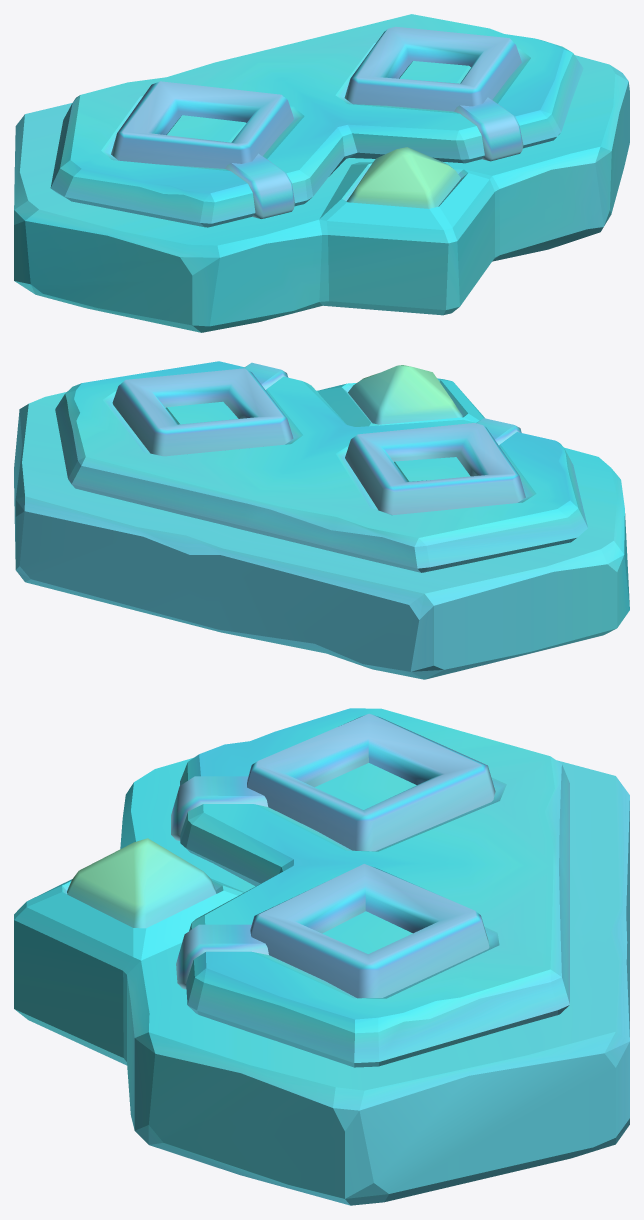
File: CharSkyKid_Prop_HandheldController.glb
3 renders of one model, top to bottom at view 1: azimuth 30°, elevation 25°; view 2: azimuth 150°, elevation 25°; view 3: azimuth 270°, elevation 25°, orthographic. The views are drawn at different scales.
Parts seen in each view (by area): view 1: CharSkyKid_Prop_HandheldController; view 2: CharSkyKid_Prop_HandheldController; view 3: CharSkyKid_Prop_HandheldController.
Part boxes in pixels (x1,y1,x2,y2): CharSkyKid_Prop_HandheldController: (14, 14, 629, 332); CharSkyKid_Prop_HandheldController: (14, 361, 629, 679); CharSkyKid_Prop_HandheldController: (14, 708, 629, 1205).
Bounding box in the file's own units: 2.82 × 0.605 × 1.89.
1 material, 1 textured.
